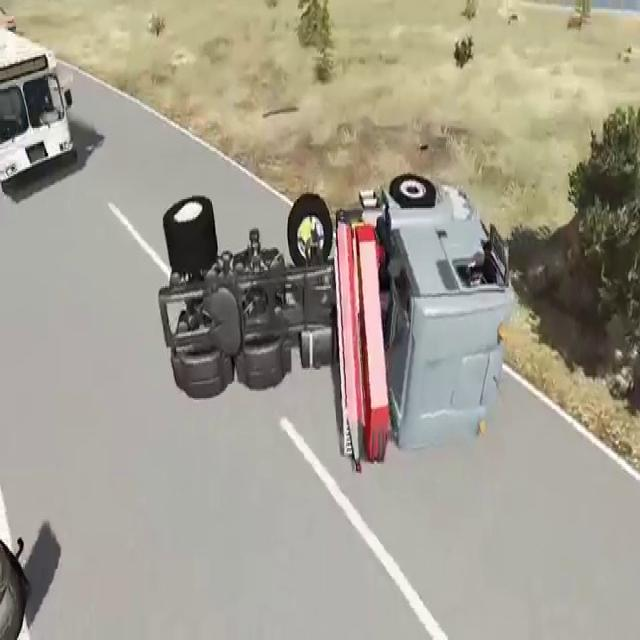severe: (155, 163, 513, 468)
